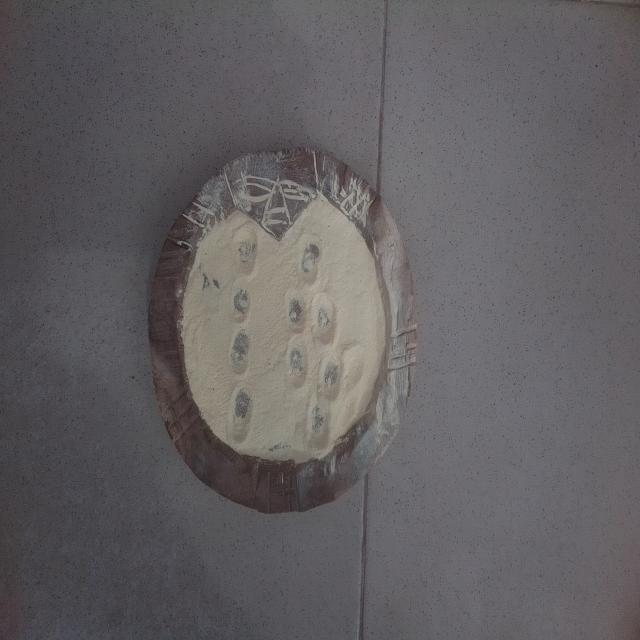double: (285, 338, 344, 399), (284, 288, 338, 346)
single: (230, 225, 260, 280), (305, 393, 332, 452), (228, 382, 252, 445), (298, 234, 323, 292), (230, 328, 252, 381), (230, 278, 253, 328)
